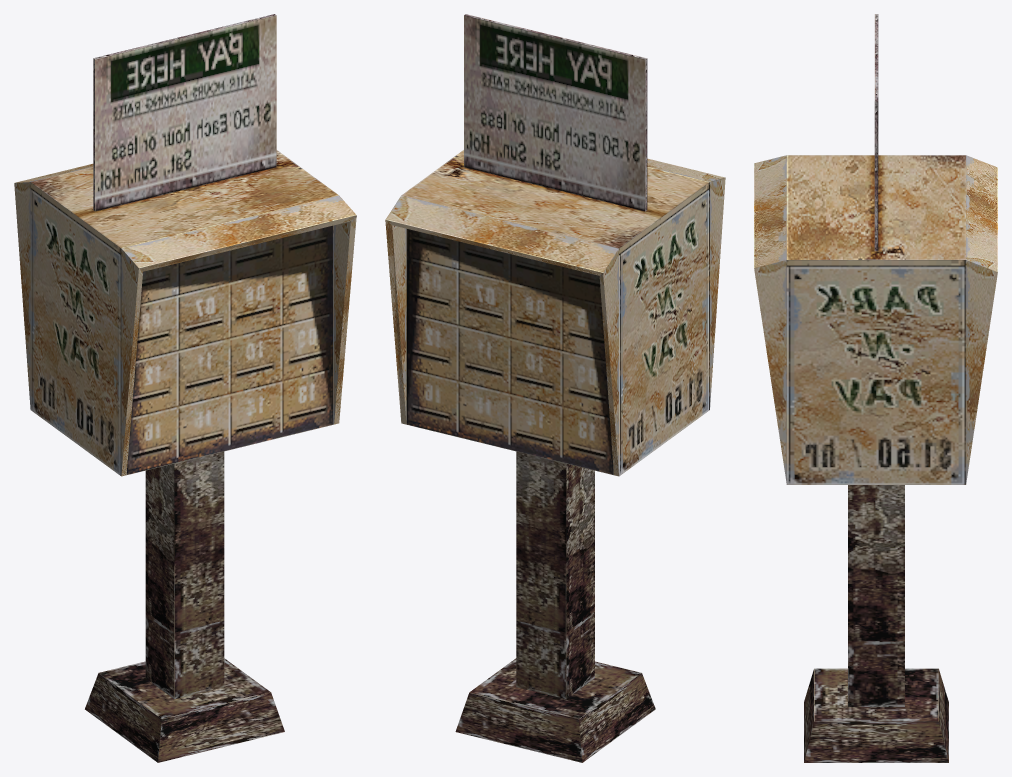
The model's file is paybox_default.fbx.
The picture shows the model from 3 angles, left to right: view 1: azimuth 30°, elevation 25°; view 2: azimuth 150°, elevation 25°; view 3: azimuth 270°, elevation 25°; orthographic projection.
Visible parts, largest first — view 1: mesh_0; view 2: mesh_0; view 3: mesh_0.
Part boxes in pixels (bbox=[...]): mesh_0: bbox=[14, 14, 356, 762]; mesh_0: bbox=[385, 14, 725, 762]; mesh_0: bbox=[754, 14, 997, 762].
Size of the model in its own units: 60.3 by 180 by 58.97.
Materials: 1 (1 with a texture image).
